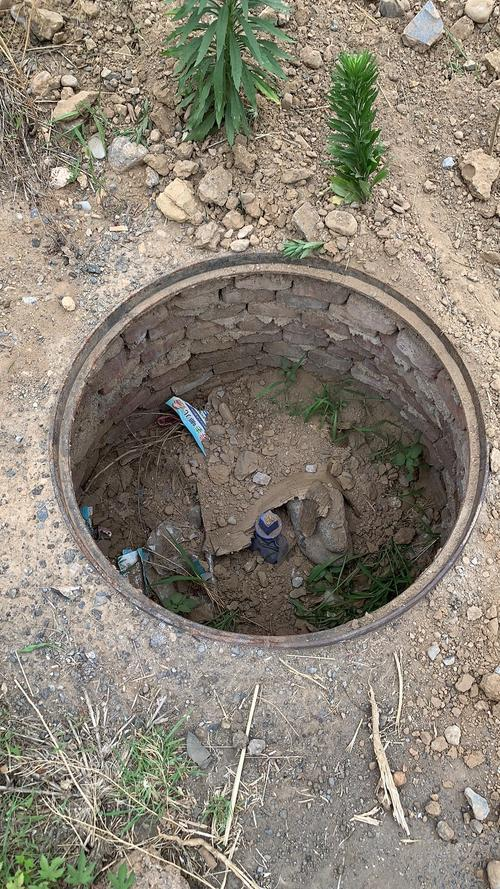lose: (34, 240, 485, 659)
